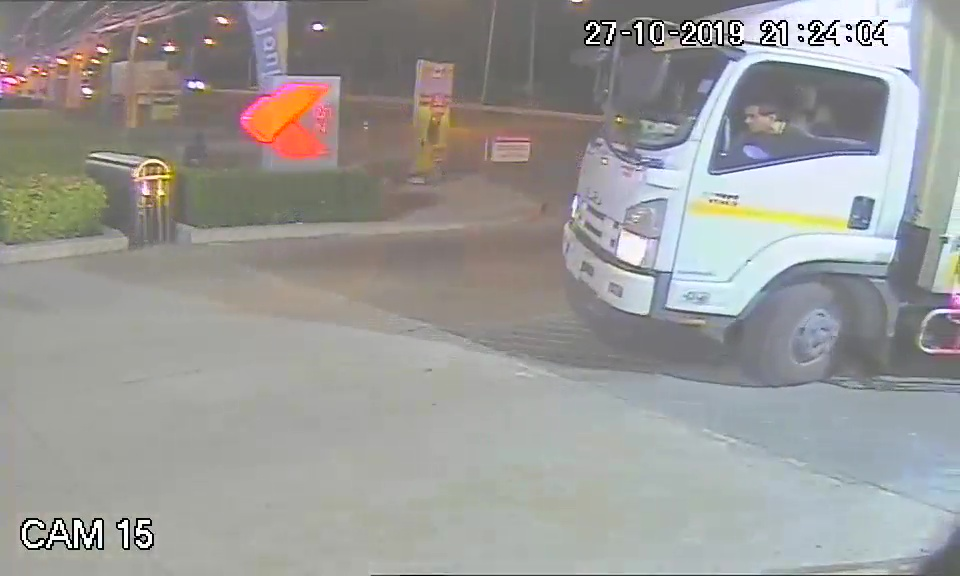truck: (562, 7, 902, 389)
